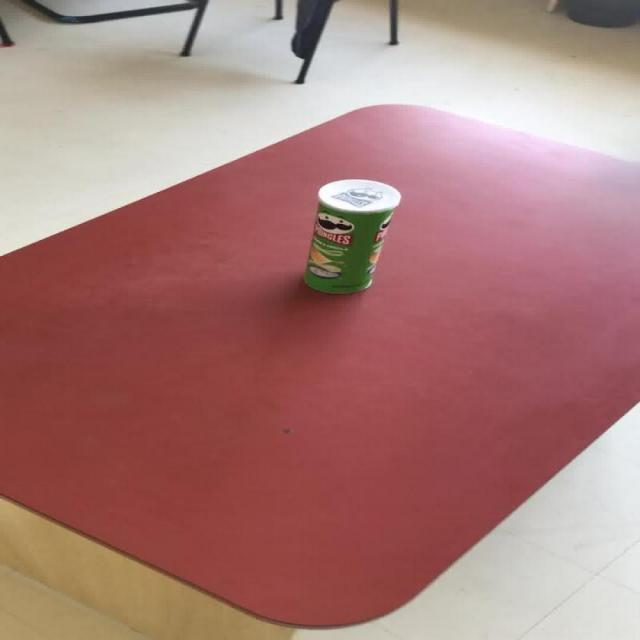Pringles: (301, 177, 401, 294)
